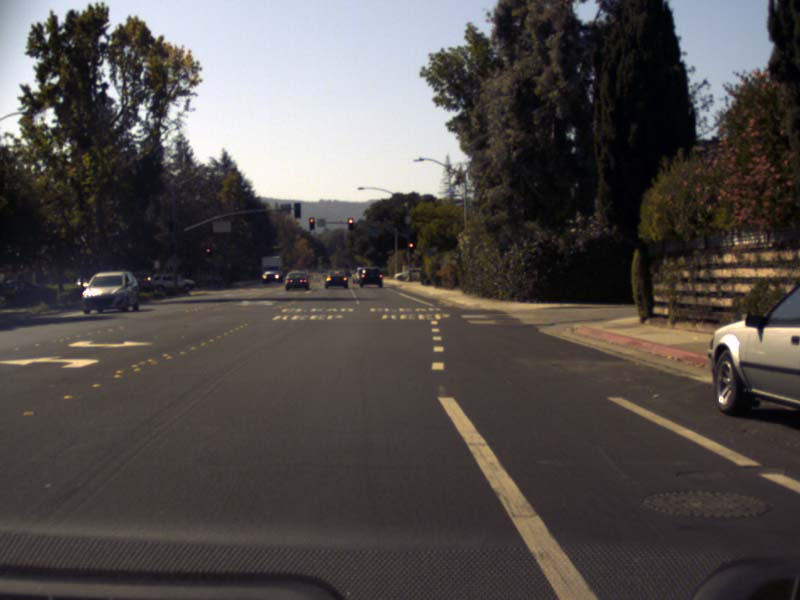Red: (204, 247, 211, 257), (309, 218, 314, 229), (348, 218, 353, 229), (408, 241, 412, 253)
